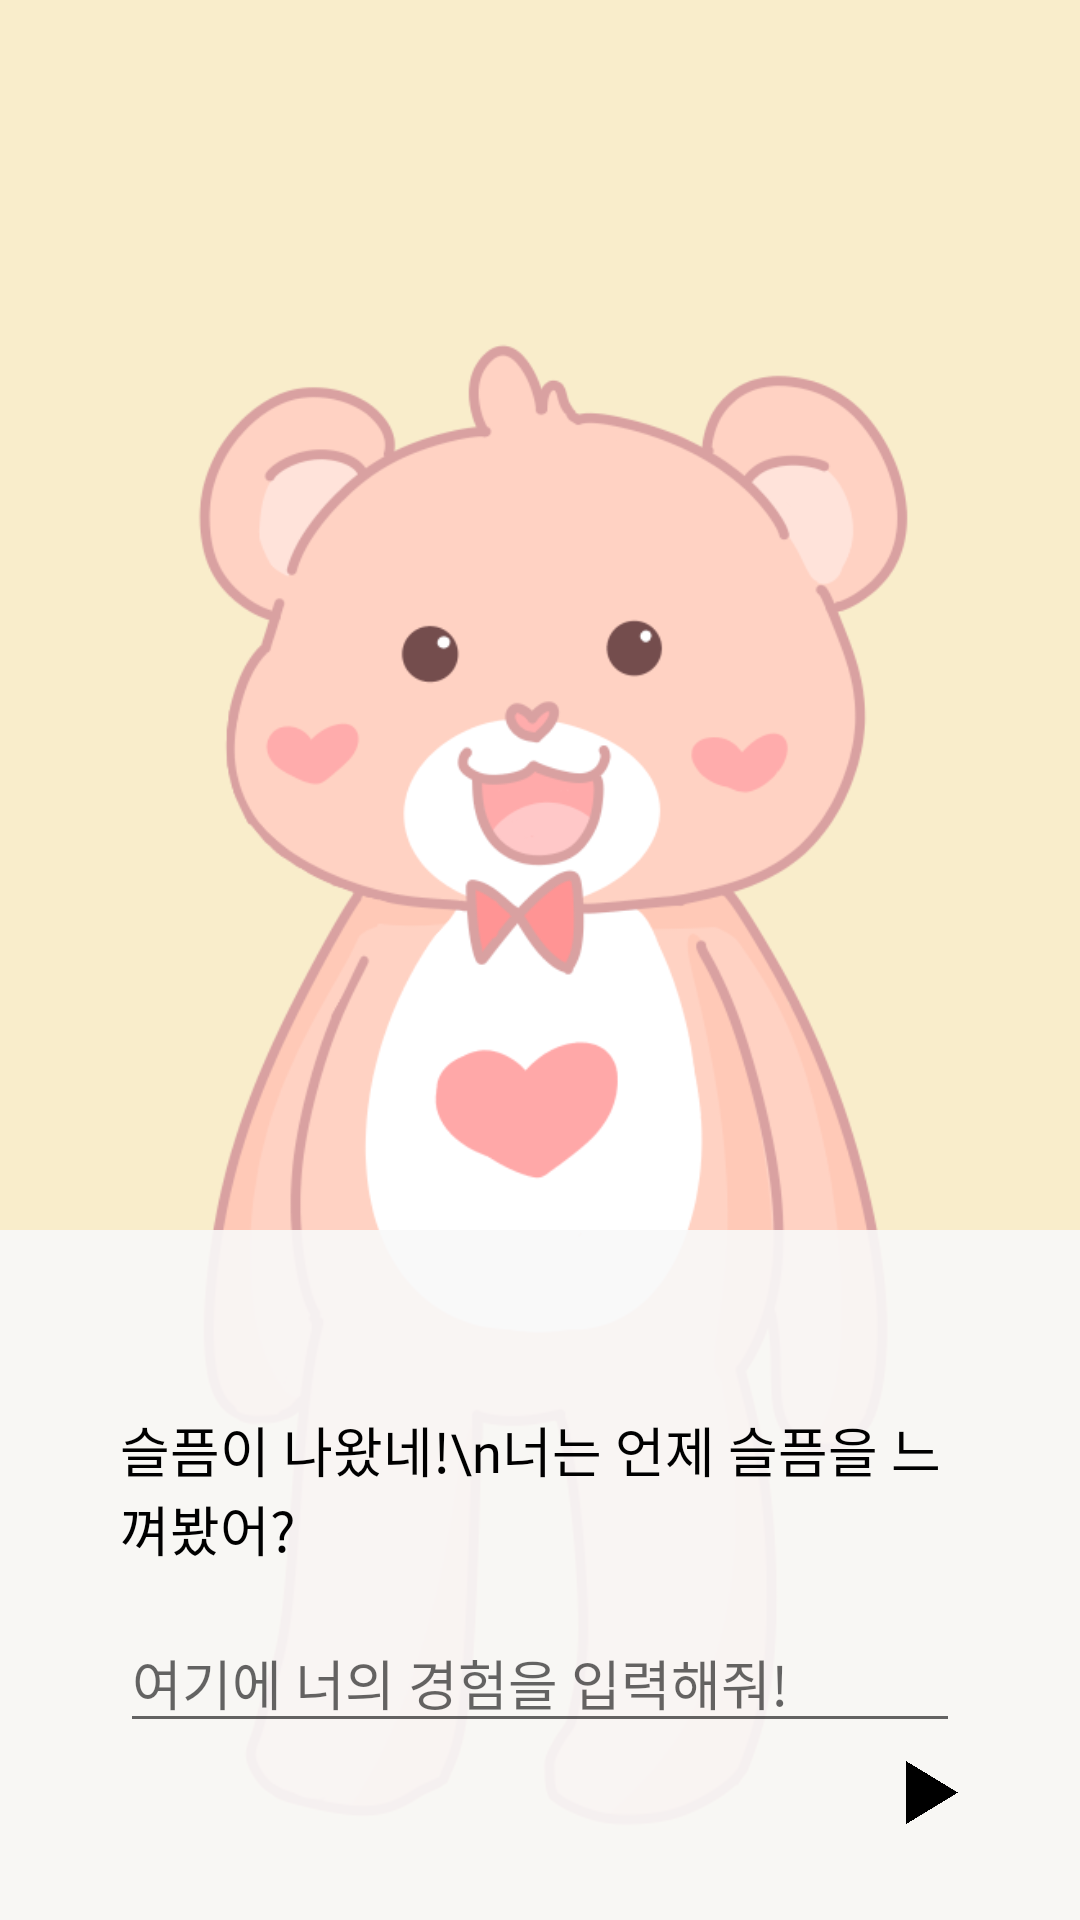

Icon bounding boxes for this 1080 x 1920 phone screenshot, format box=[x1, y1, x2, y2]:
noun triangle: box=[906, 1761, 958, 1824]
